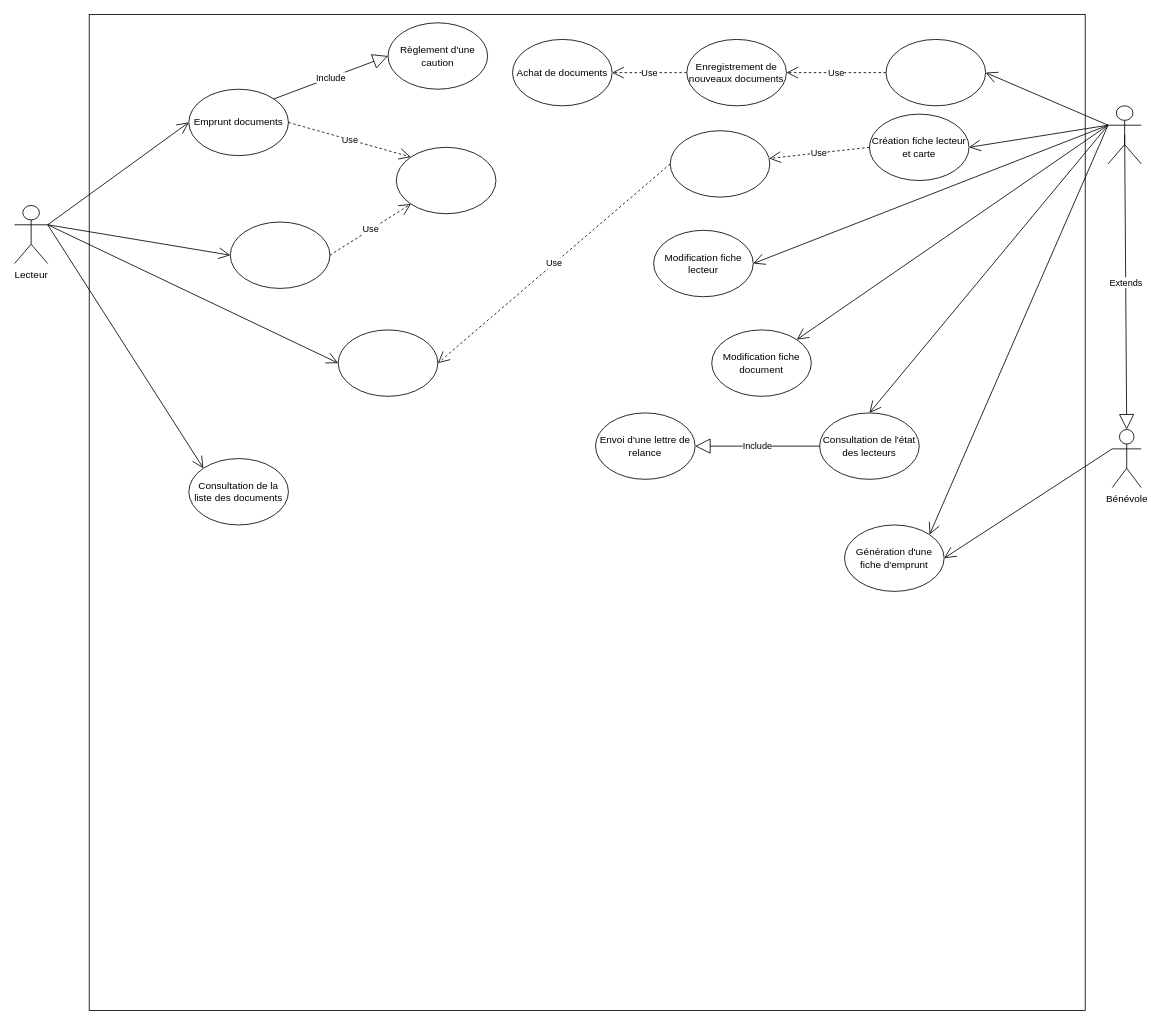
This 1162x1025 diagram has some shape labels left out. Here are the shapes that lost their labels. From the top down, the centre of each, then its label:
the point at 935,72: Création fiche document
the point at 1124,134: Employé
the point at 445,180: Présentation carte de lecteur
the point at 719,163: Inscription de nouveaux lecteurs
the point at 279,254: Consultation documents
the point at 387,362: Règlement de la cotisation
